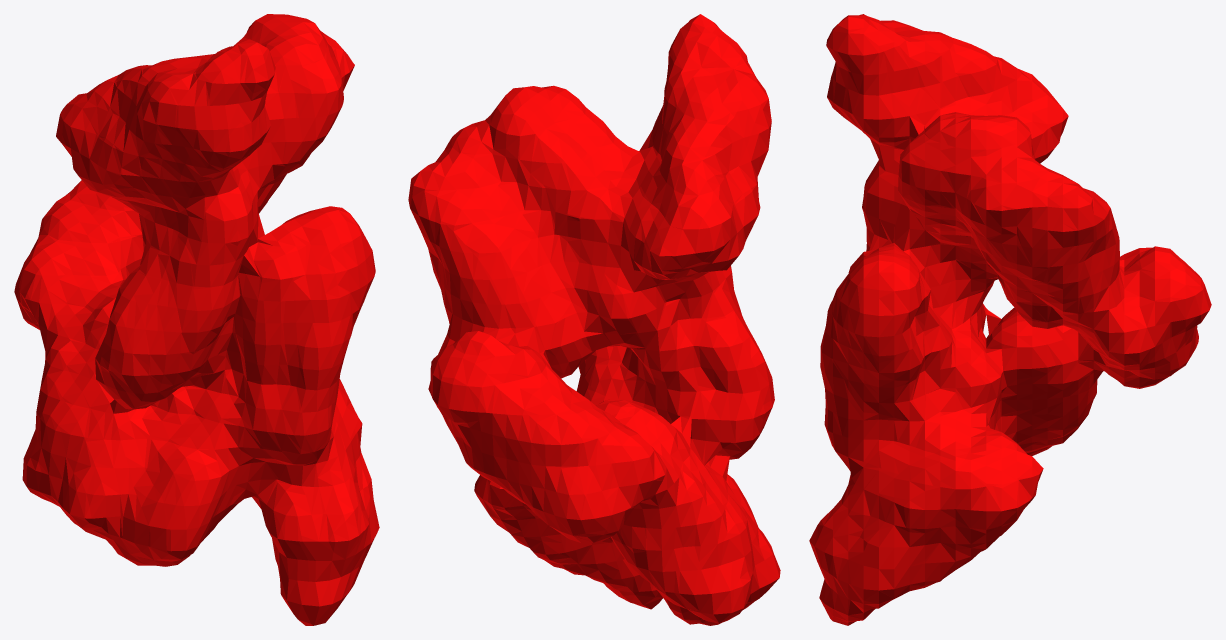
Rendered from Catenin__Cadherin_associated_p_coarse.dae.
The picture shows the model from 3 angles, left to right: view 1: azimuth 30°, elevation 25°; view 2: azimuth 150°, elevation 25°; view 3: azimuth 270°, elevation 25°; orthographic projection. The views are drawn at different scales.
Parts seen in each view (by area): view 1: Catenin__Cadherin_associated_p; view 2: Catenin__Cadherin_associated_p; view 3: Catenin__Cadherin_associated_p.
Boxes of the visible parts, x1,y1,x2,y2 form: Catenin__Cadherin_associated_p: (14, 14, 379, 625); Catenin__Cadherin_associated_p: (408, 14, 780, 625); Catenin__Cadherin_associated_p: (809, 14, 1211, 625).
Bounding box in the file's own units: 75.78 × 140 × 87.85.
